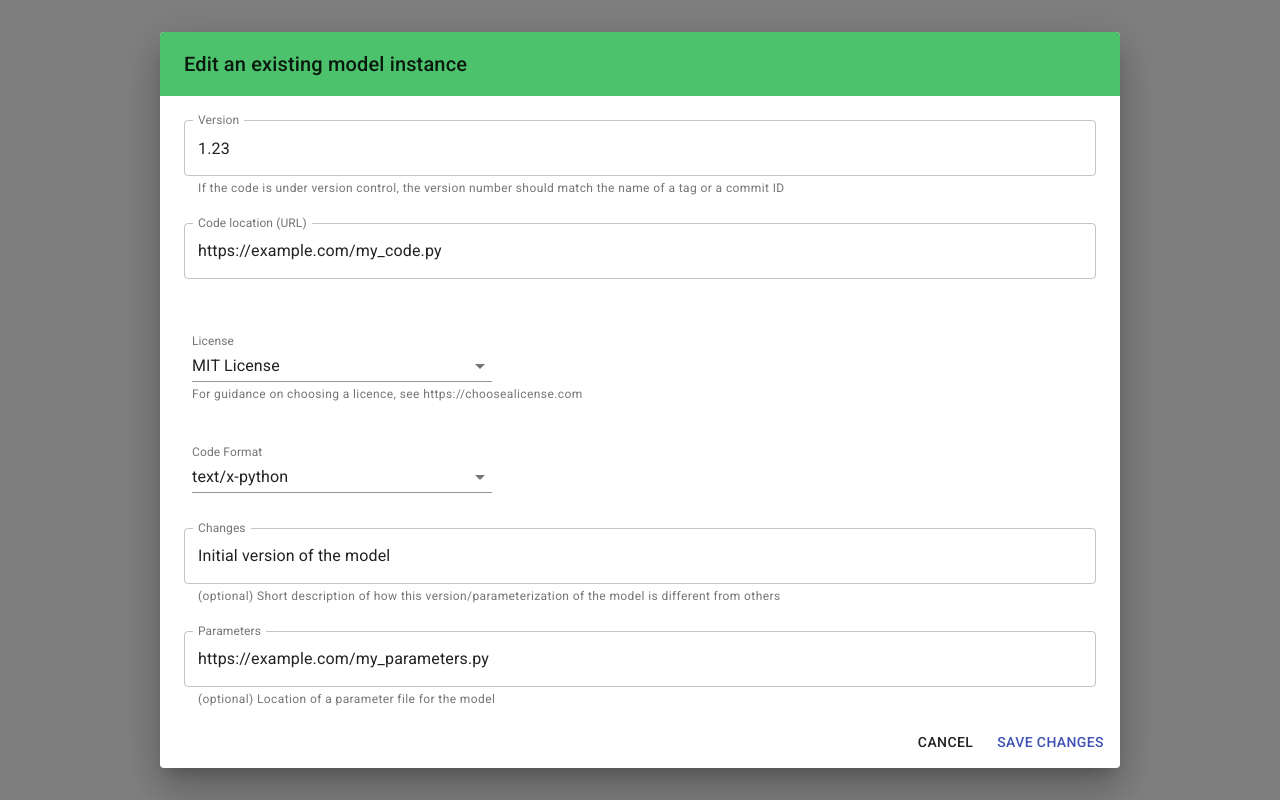
Test: ModelInstanceEditForm › handleSubmit › shows error when updateModelInstance rejects
Click the button "Save changes" at {"x": 1051, "y": 742}, box top-left (989, 724), bottom-right (1112, 760)
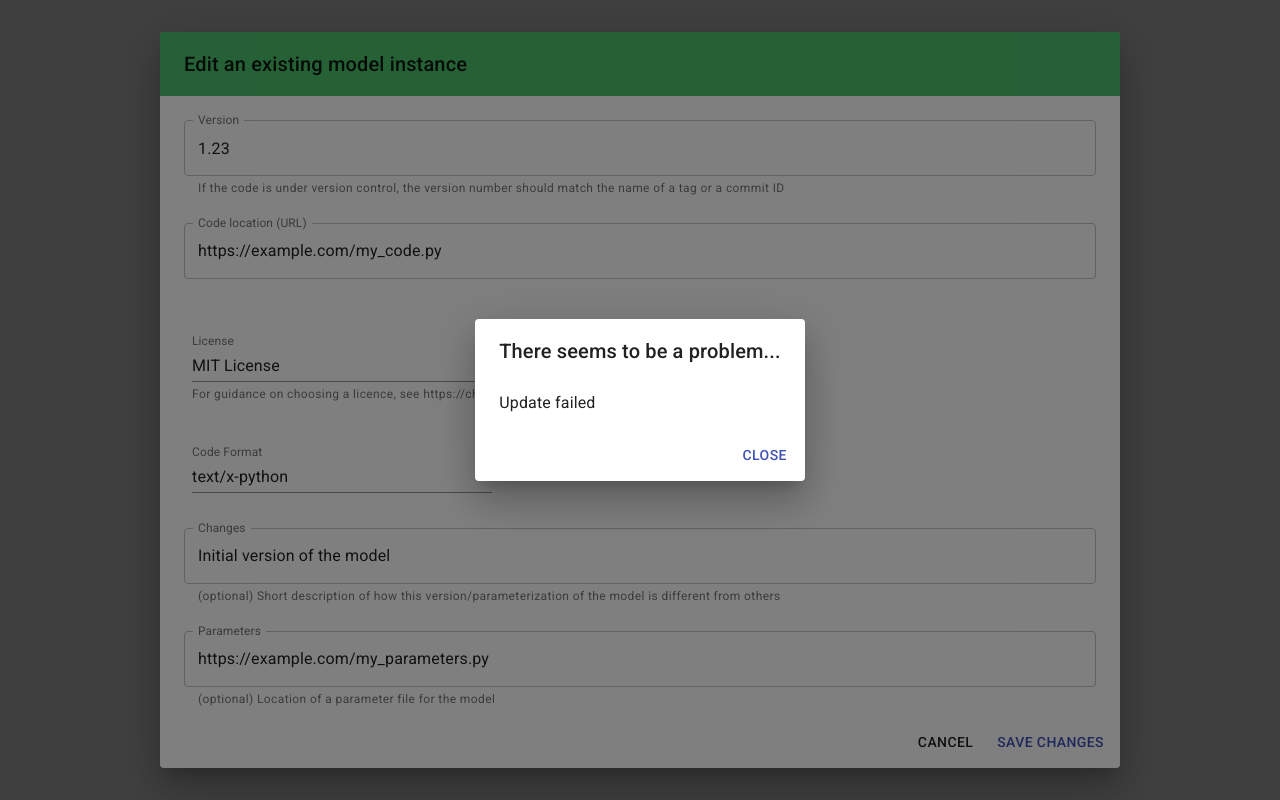
Expected: the text "Update failed" is shown, top-left (499, 393), bottom-right (596, 412)
